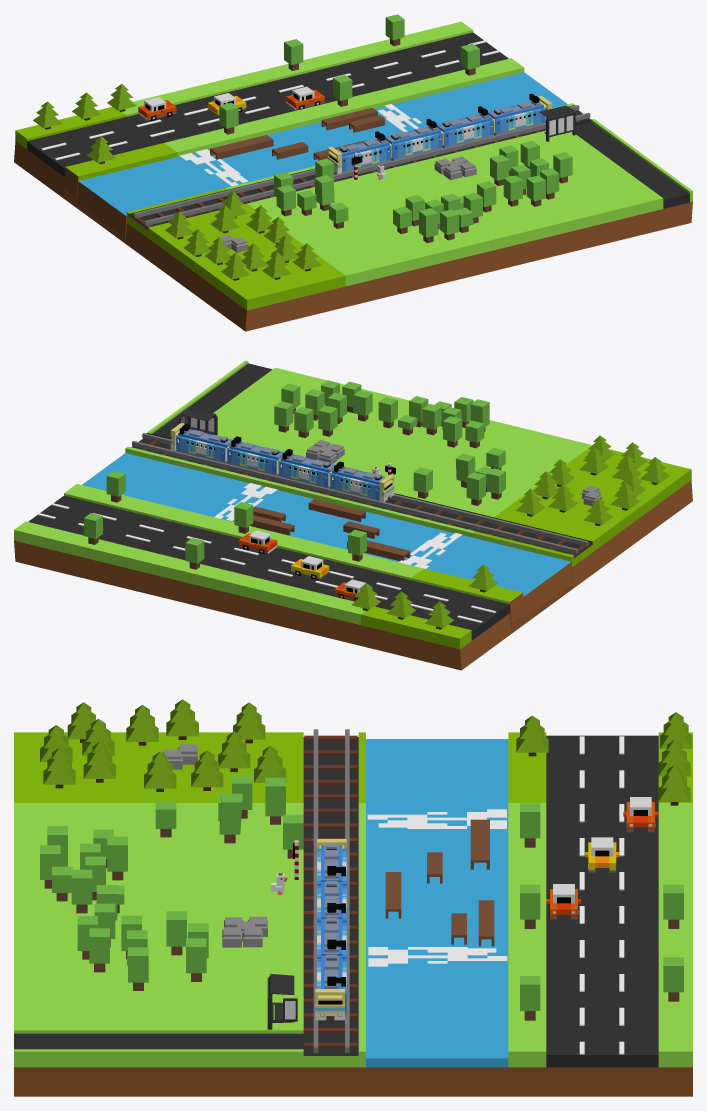
Rendered from crossy_road_3d_scene.dae.glb.
3 renders of one model, top to bottom at view 1: azimuth 30°, elevation 25°; view 2: azimuth 150°, elevation 25°; view 3: azimuth 270°, elevation 25°, orthographic. The views are drawn at different scales.
Visible parts, largest first — view 1: Material_013-material, Material_025-material, Material_048-material, Material_015-material, Material_005-material, Material_027-material (×2), Material_014-material, Material_035-material, Material_032-material, Cube.031, Material_034-material, Material_023-material (×2) (+6 smaller); view 2: Material_013-material, Material_025-material, Material_048-material, Material_015-material, Material_005-material, Material_027-material (×2), Material_014-material, Material_035-material, Material_032-material, Material_034-material, Cube.031, Material_036-material (+7 smaller); view 3: Material_013-material, Material_025-material, Material_015-material, Material_048-material, Material_005-material, Material_017-material (×16), Material_023-material (×16), Material_026-material, Material_014-material, Material_027-material (×2), Cube.031, Material_035-material (+5 smaller).
Boxes of the visible parts, x1,y1,x2,y2 form: Material_013-material: (122, 21, 692, 286); Material_025-material: (27, 32, 689, 230); Material_048-material: (14, 141, 692, 331); Material_015-material: (78, 72, 567, 215); Material_005-material: (15, 107, 345, 310); Material_027-material (×2): (133, 105, 590, 225); Material_014-material: (210, 107, 384, 160); Material_035-material: (337, 100, 545, 172); Material_032-material: (336, 101, 545, 171); Cube.031: (41, 40, 499, 160); Material_034-material: (345, 108, 541, 170); Material_023-material (×2): (314, 175, 438, 237); Material_013-material: (14, 360, 592, 625); Material_025-material: (28, 363, 592, 640); Material_048-material: (14, 480, 692, 670); Material_015-material: (82, 453, 571, 596); Material_005-material: (361, 446, 691, 649); Material_027-material (×2): (132, 433, 588, 554); Material_014-material: (249, 499, 410, 560); Material_035-material: (176, 428, 384, 500); Material_032-material: (176, 429, 385, 499); Material_034-material: (180, 436, 376, 498); Cube.031: (37, 503, 496, 622); Material_036-material: (188, 438, 368, 494); Material_013-material: (14, 803, 692, 1067); Material_025-material: (14, 735, 658, 1067); Material_015-material: (366, 739, 508, 1067); Material_048-material: (14, 1067, 692, 1096); Material_005-material: (14, 732, 692, 802); Material_017-material (×16): (40, 699, 692, 801); Material_023-material (×16): (40, 777, 683, 1010); Material_026-material: (304, 735, 357, 1047); Material_014-material: (385, 819, 494, 946); Material_027-material (×2): (313, 729, 349, 1053); Cube.031: (579, 736, 624, 1054); Material_035-material: (324, 844, 346, 1015).
Bounding box in the file's own units: 95.92 × 12.43 × 85.94.
